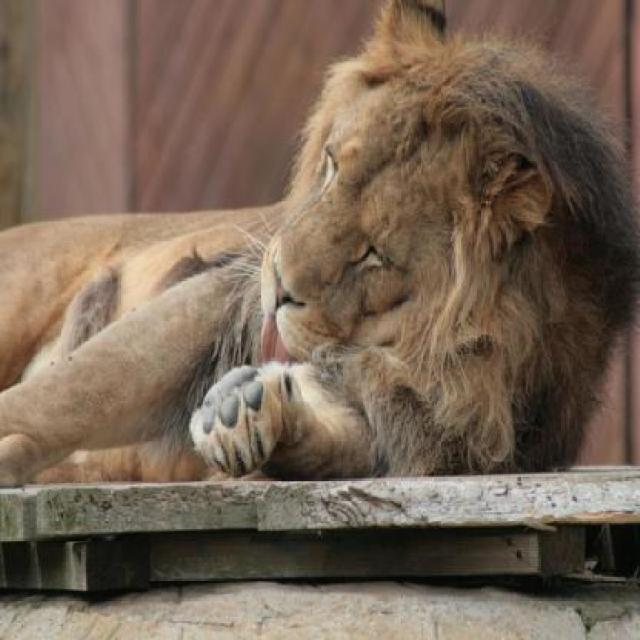Lion: (1, 17, 632, 500)
